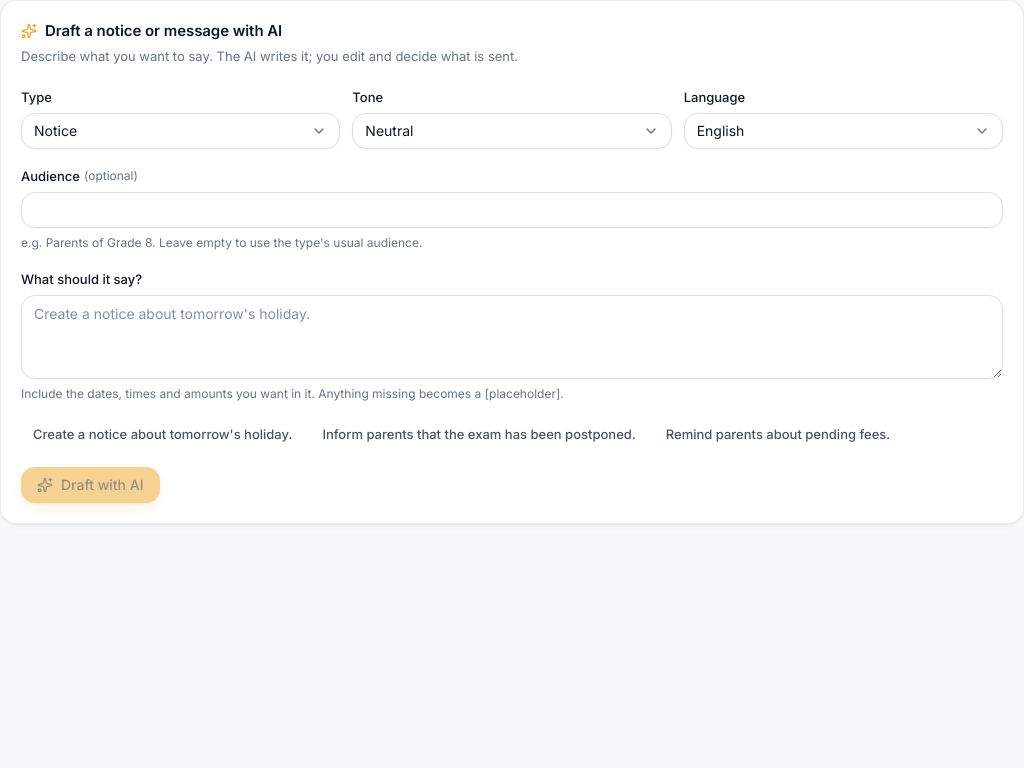
Test: NoticeDrafter › shows the server's reason when drafting fails
Step 1. Click the button "Remind parents about pending fees." → point(778, 435), box [654, 419, 902, 451]
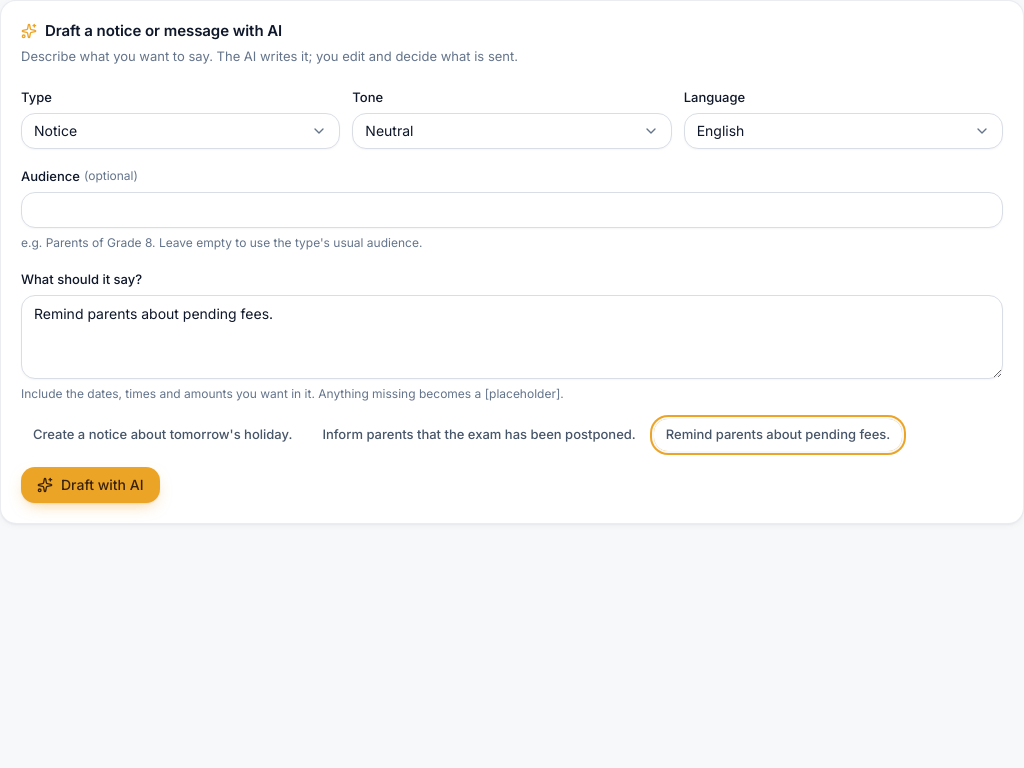
Step 2. Click the button "Draft with AI" → point(90, 485), box [21, 467, 160, 503]
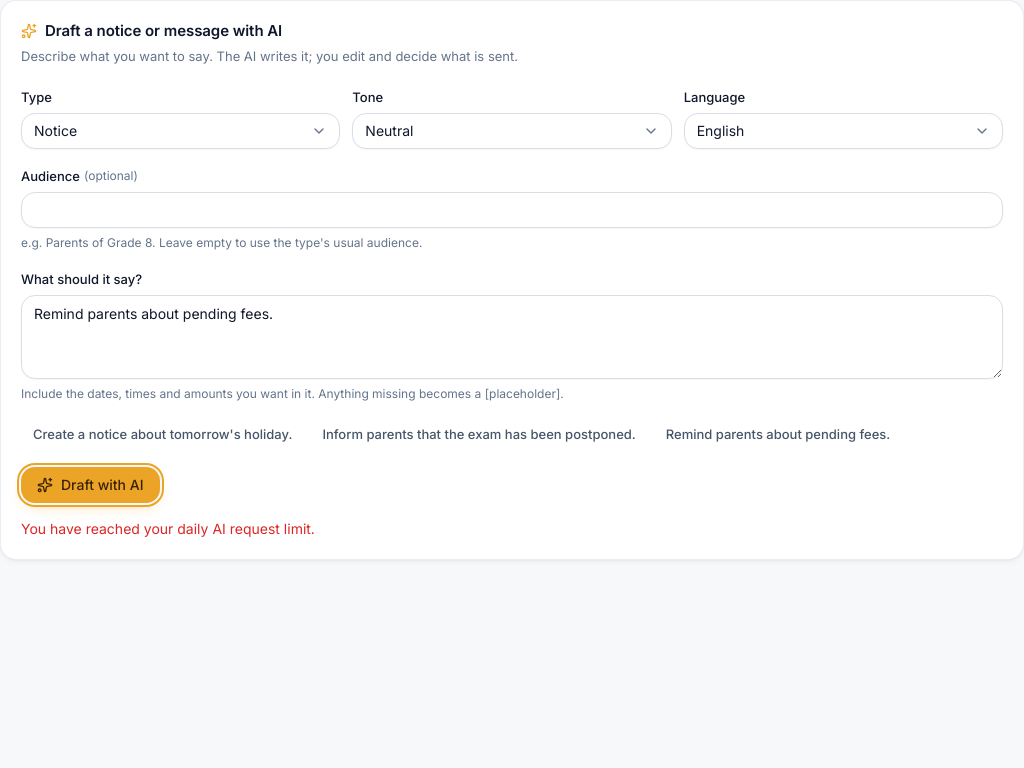
Expected: the message shows "daily AI request limit", [21, 520, 315, 537]
